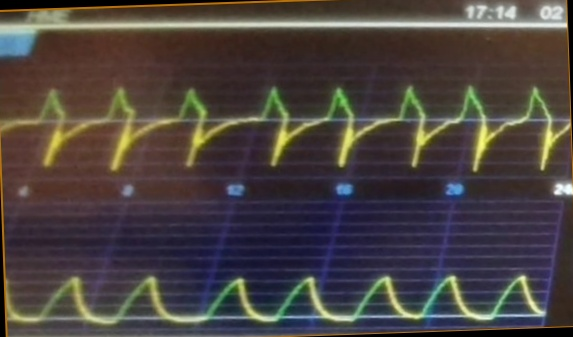Accumulation Flow: (2, 76, 571, 173)
Volume: (6, 253, 545, 327)
